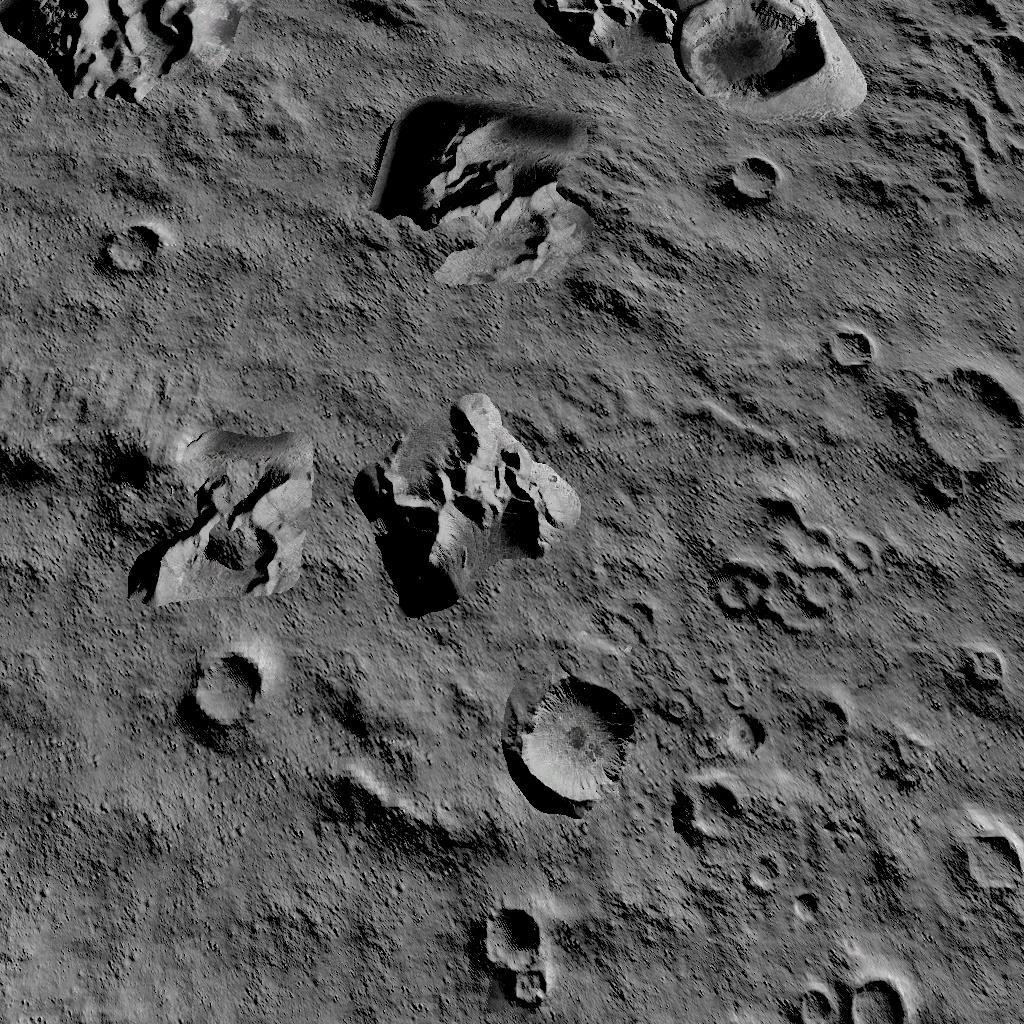Boulders: (4, 368, 316, 606), (381, 102, 680, 332), (363, 400, 578, 620), (541, 0, 858, 93), (0, 0, 253, 110)
Crater: (721, 500, 878, 633), (911, 370, 1024, 520), (516, 680, 636, 810), (474, 908, 550, 1020), (788, 978, 922, 1024), (193, 652, 268, 732), (676, 778, 753, 852), (958, 832, 1024, 912), (103, 222, 168, 286), (724, 160, 782, 218), (828, 325, 878, 378)
Plan surface: (0, 618, 181, 1024), (200, 868, 460, 1024), (188, 195, 368, 353)
